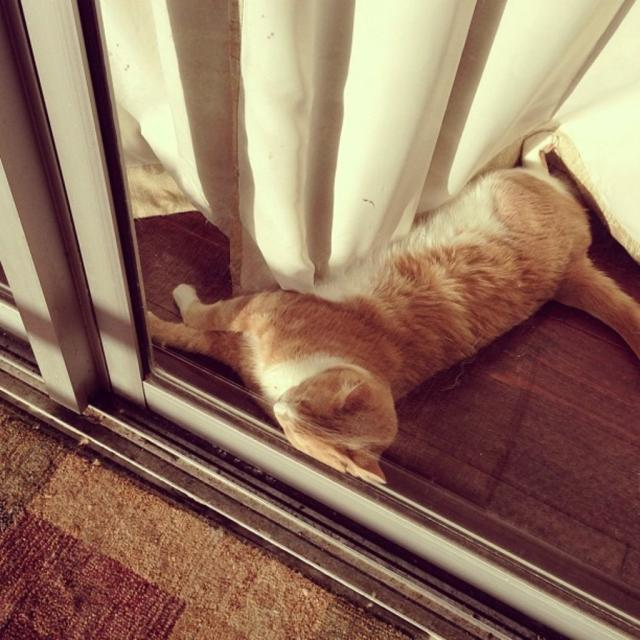Cat: (146, 132, 638, 484)
